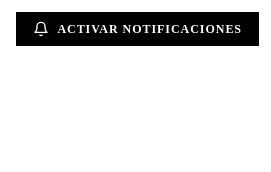
Test: EnableNotificationsButton: enabling › shows an error (and stays retryable) when the server refuses the subscription
This screenshot has width=271, height=172.
Click the button at (138, 29), box [16, 12, 259, 46]
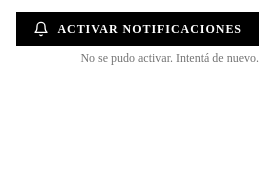
Check: the text "No se pudo activar. Intentá de nuevo." is shown, box [80, 50, 259, 66]
